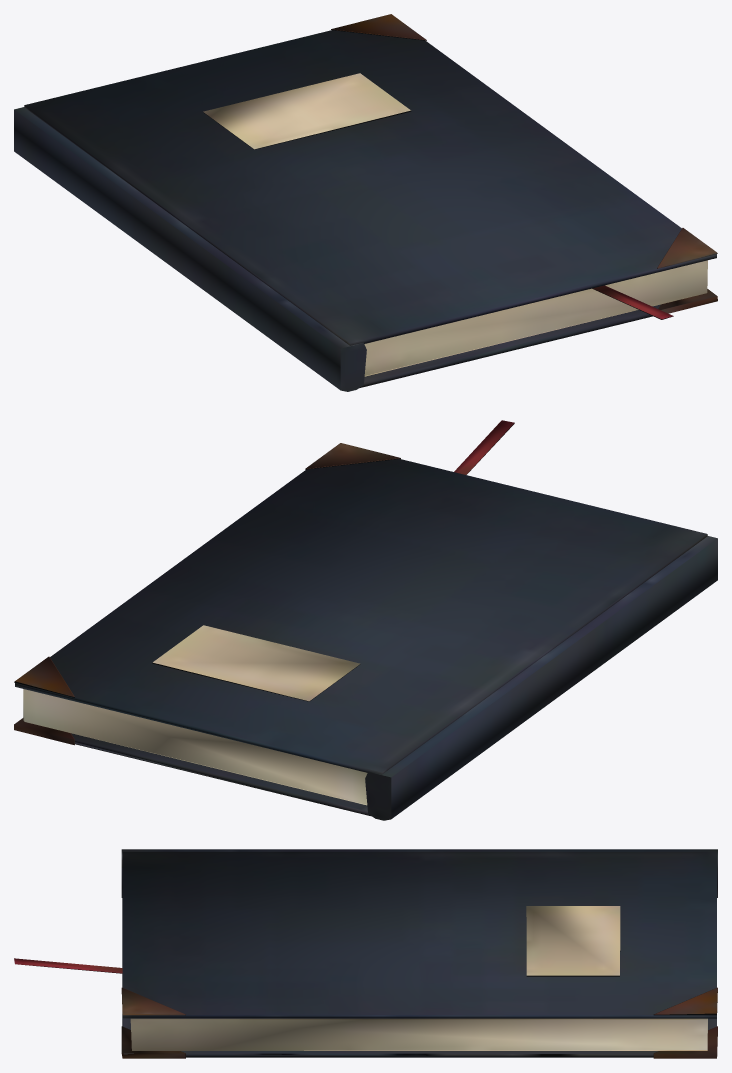
Rendered from scorebook.glb.
3 renders of one model, top to bottom at view 1: azimuth 30°, elevation 25°; view 2: azimuth 150°, elevation 25°; view 3: azimuth 270°, elevation 25°, orthographic. The views are drawn at different scales.
Visible parts, largest first — view 1: cover, book; view 2: cover, book; view 3: cover, book.
Part boxes in pixels (<box>): cover: <box>24,14,717,345</box>; book: <box>14,107,717,391</box>; cover: <box>14,443,707,774</box>; book: <box>14,420,717,820</box>; cover: <box>121,851,717,1018</box>; book: <box>14,849,717,1058</box>.
Size of the model in its own units: 0.2202 by 0.0298 by 0.3896.
1 material, 1 textured.
